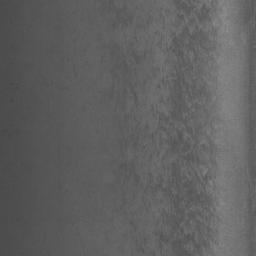Silk spot: (96, 0, 222, 256), (63, 49, 88, 81)
